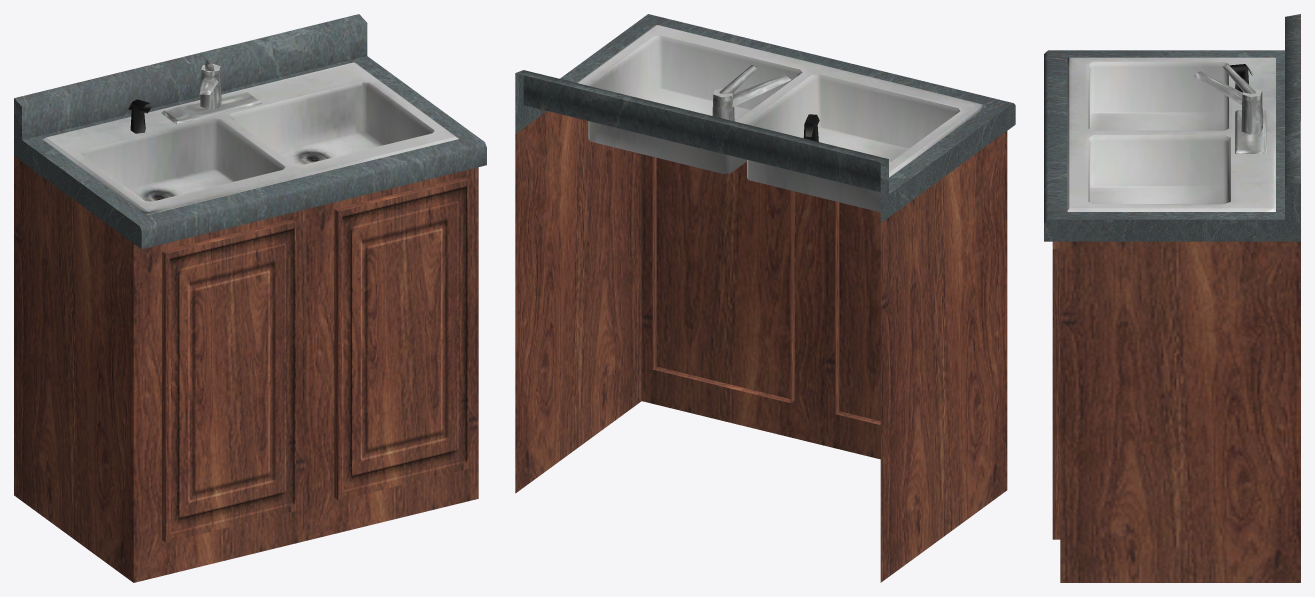
Rendered from kitchensink.fbx.
3 renders of one model, left to right at view 1: azimuth 30°, elevation 25°; view 2: azimuth 150°, elevation 25°; view 3: azimuth 270°, elevation 25°, orthographic. The views are drawn at different scales.
Parts seen in each view (by area): view 1: mesh_0; view 2: mesh_0; view 3: mesh_0.
Boxes of the visible parts, x1,y1,x2,y2 form: mesh_0: (14, 14, 486, 582); mesh_0: (515, 14, 1015, 582); mesh_0: (1044, 14, 1300, 582).
Bounding box in the file's own units: 100 × 117 × 64.06.
1 material, 1 textured.
